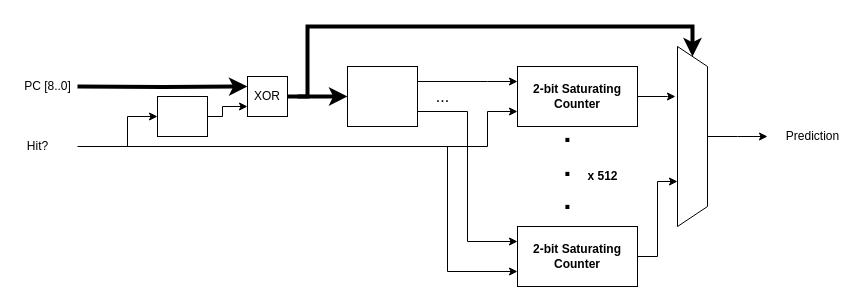
This 864x304 diagram has some shape labels left out. The shapes that lost their labels are listed below. From the top down, each one's centre as x and y in pixels, then its label:
point (182, 116): GR
point (382, 96): 9 to 512 Decoder
